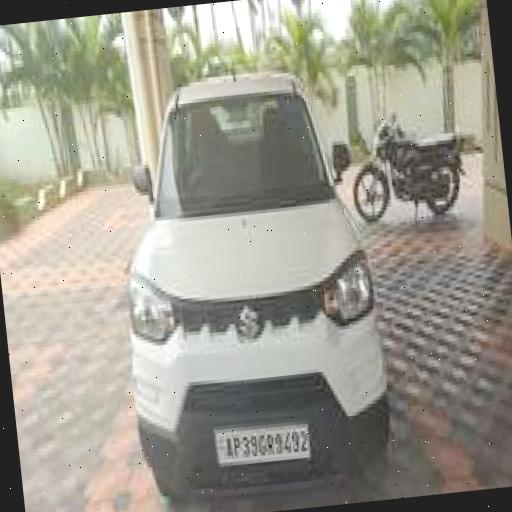license_plate`: (212, 417, 309, 464)
